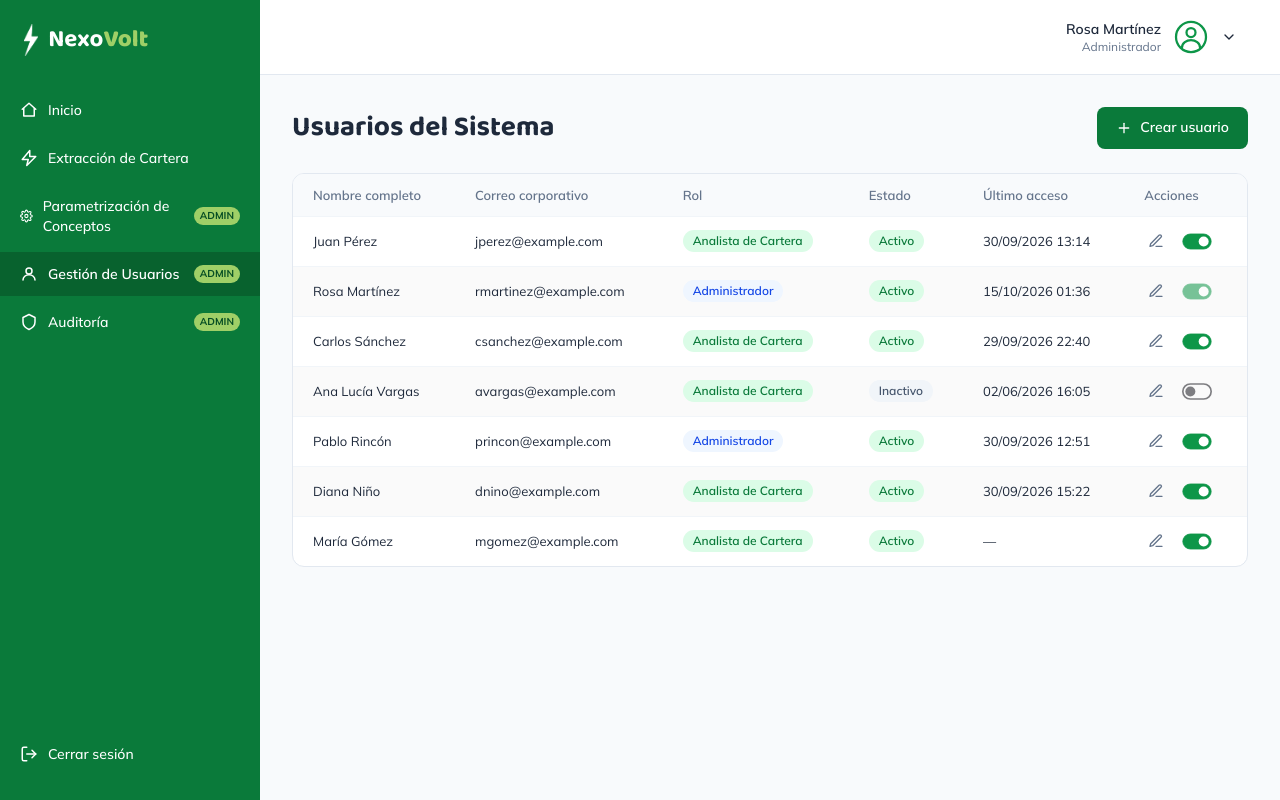
Test case: crear usuario › un correo repetido se reporta en el campo del correo
This screenshot has width=1280, height=800.
Check: the text "Juan Pérez" is shown, box [293,216,455,266]
Click the button "Crear usuario".
click(1173, 128)  # box [1097,107,1248,148]
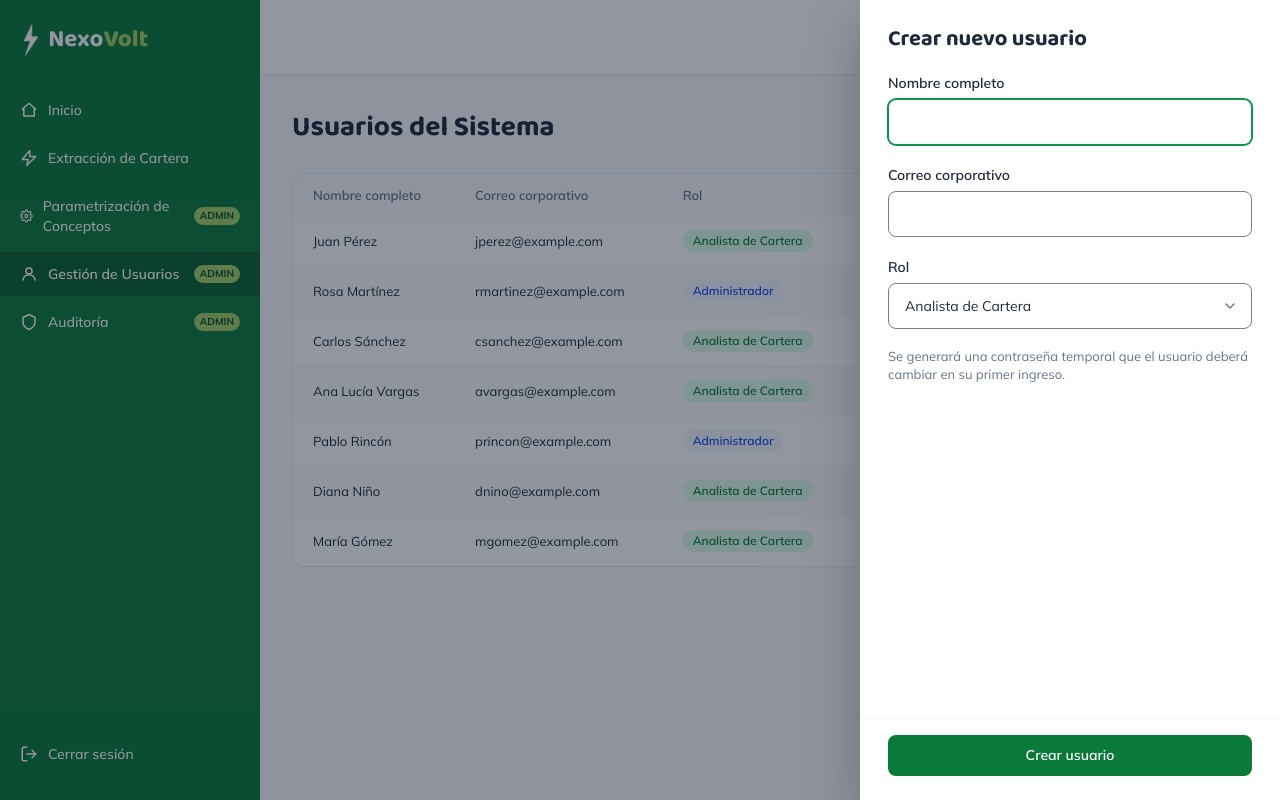
Type "Otra Persona" into the field labelled "Nombre completo".
click(1070, 122); type("Otra Persona")  # box [888,99,1252,145]
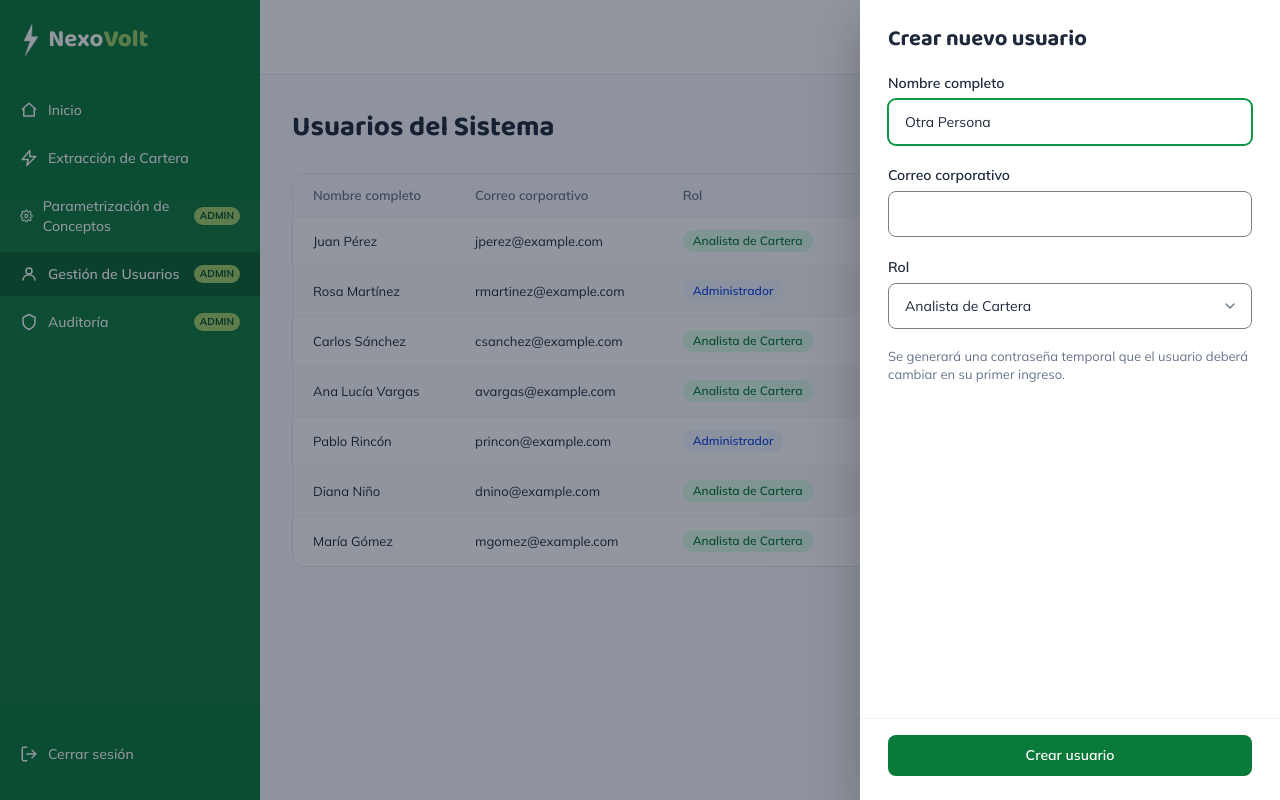
Type "jperez@example.com" into the field labelled "Correo corporativo".
click(1070, 214); type("jperez@example.com")  # box [888,191,1252,237]
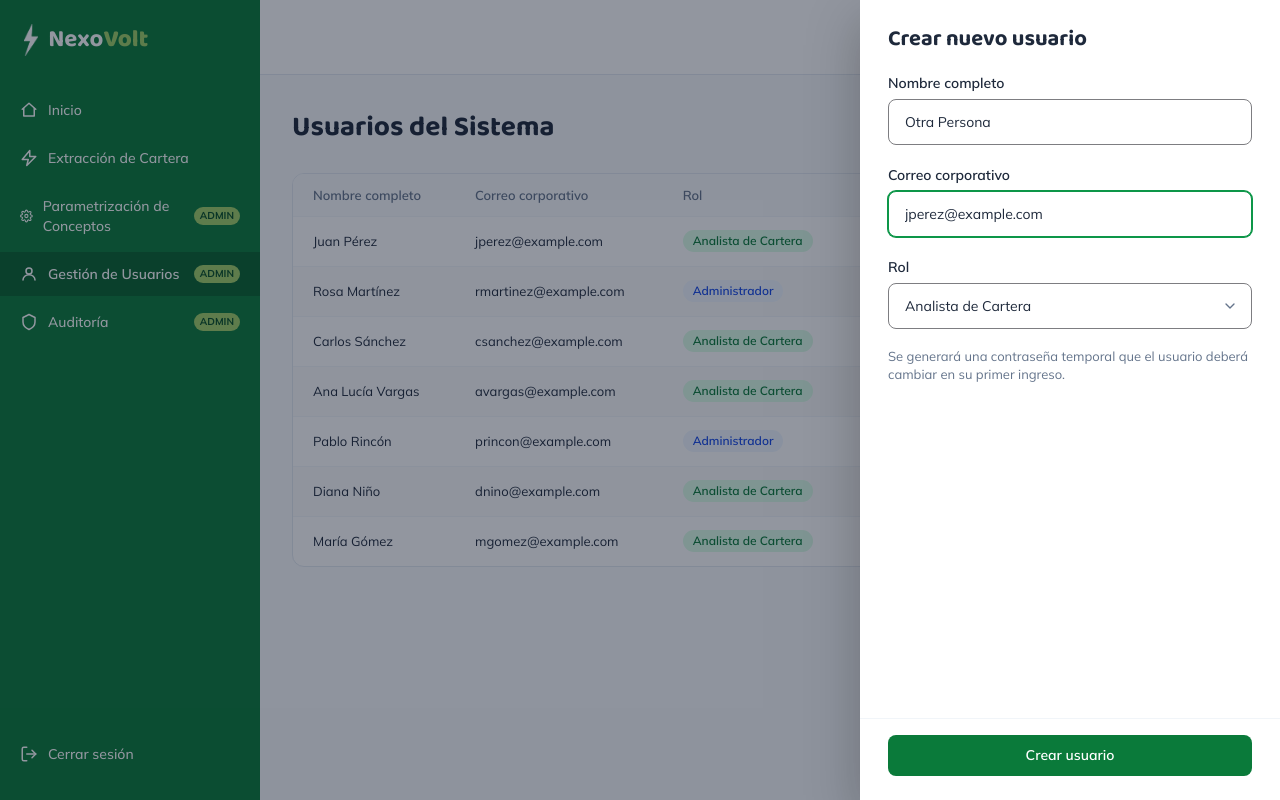
Click the button "Crear usuario".
click(1070, 755)  # box [888,734,1252,776]
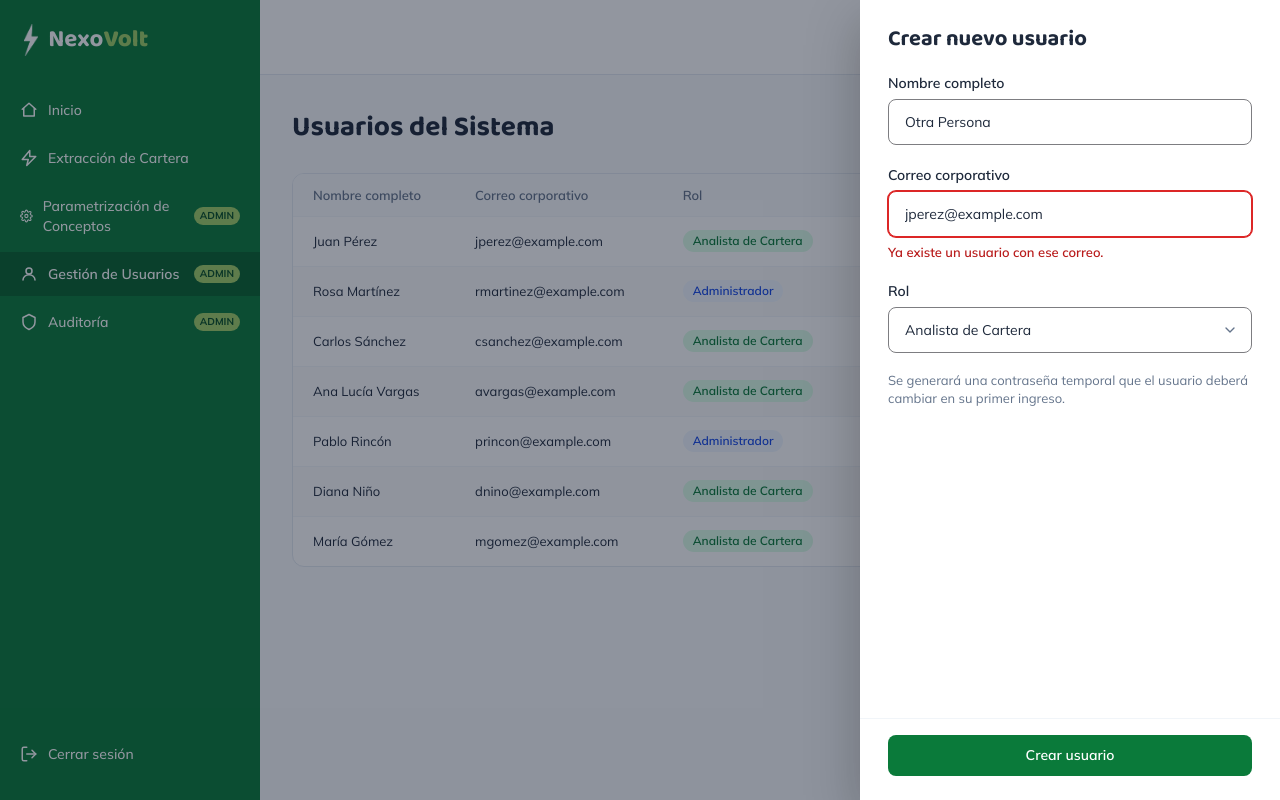
Check: the text "Ya existe un usuario con ese correo." is shown, box [888,244,1103,260]
